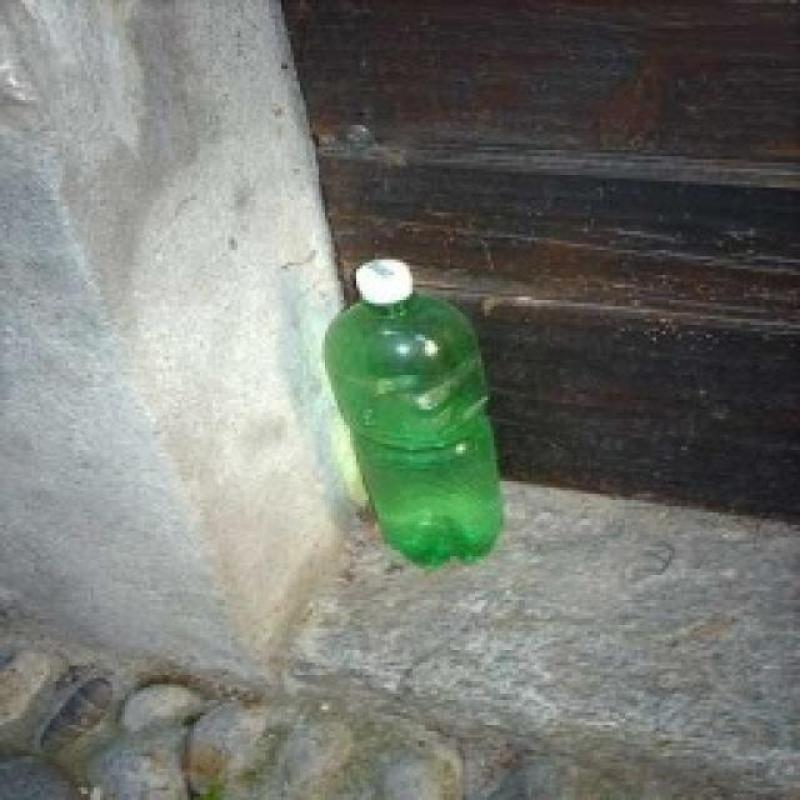botella: (322, 256, 503, 569)
